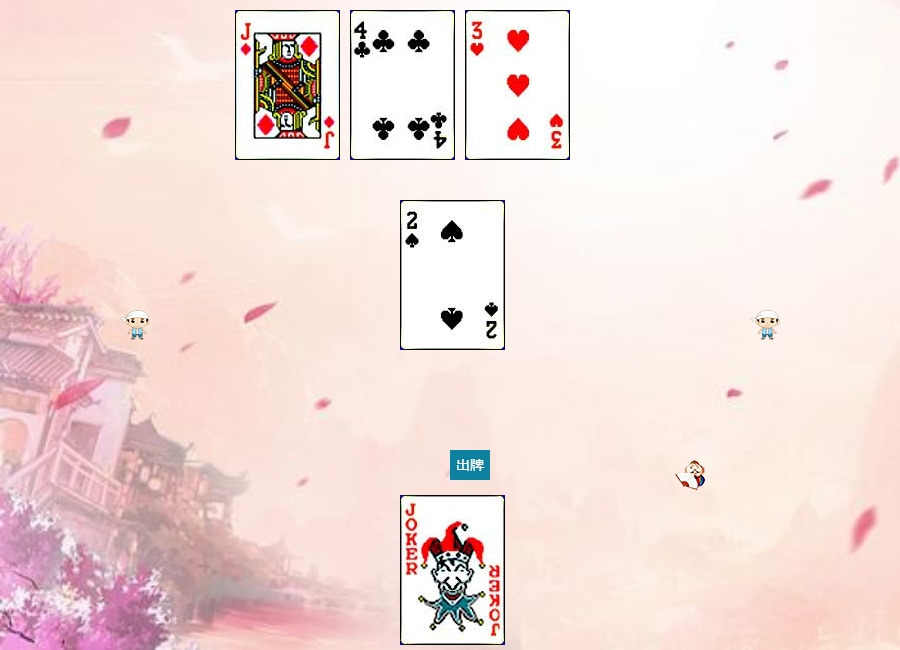11~1: (235, 10, 340, 160)
15~4: (400, 200, 505, 350)
18~4: (400, 495, 505, 645)
3~3: (465, 10, 570, 160)
4~2: (350, 10, 455, 160)
